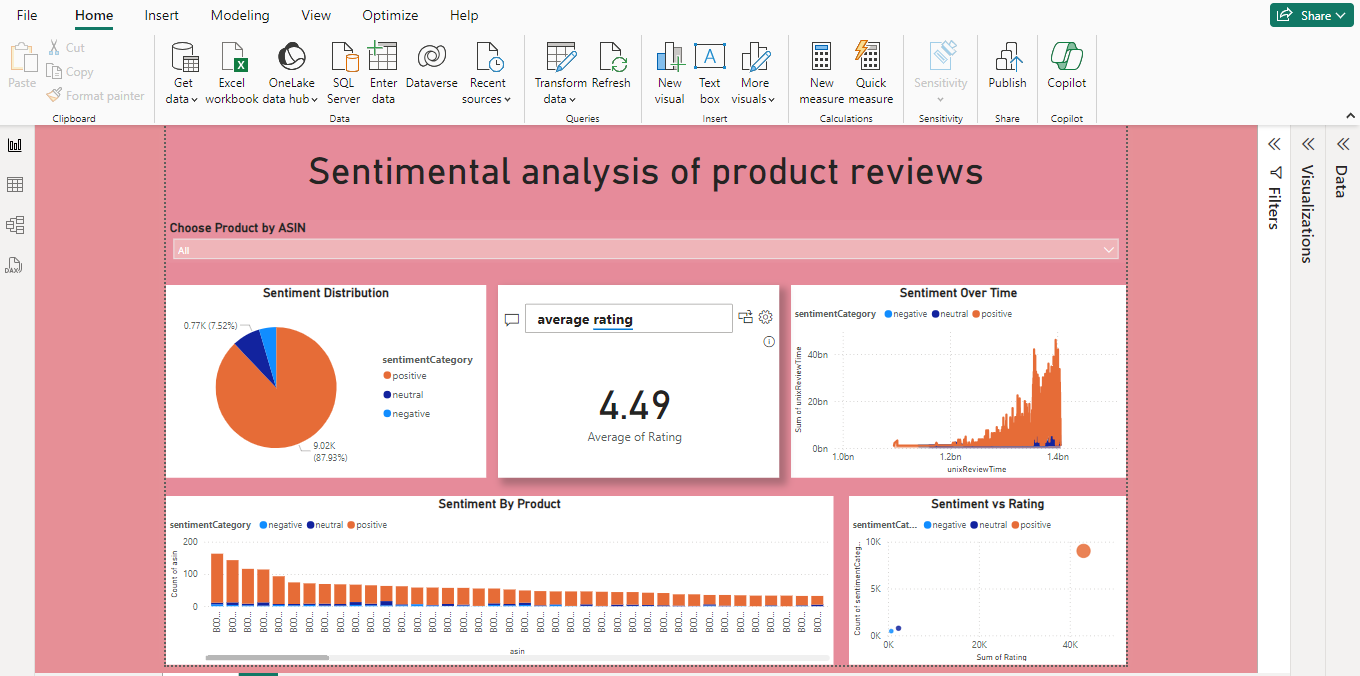

Layout of this report page (visuals, bound fields, positions):
{"tool":"powerbi","page":{"name":"Page 1","canvas":[1280,720],"ordinal":0},"visuals":[{"type":"pieChart","title":"Sentiment Distribution ","fields":{"Category":["Musical_instruments_reviews.sentimentCategory "],"Y":["CountNonNull(Musical_instruments_reviews.reviewerID)"]},"box":[0,213.3,426.7,256.7],"z":0},{"type":"columnChart","title":"Sentiment By Product ","fields":{"Category":["Musical_instruments_reviews.asin"],"Y":["CountNonNull(Musical_instruments_reviews.asin)"],"Series":["Musical_instruments_reviews.sentimentCategory "]},"box":[0,495,890,225],"z":1000},{"type":"lineChart","title":"Sentiment Over Time","fields":{"Category":["Musical_instruments_reviews.unixReviewTime"],"Y":["Sum(Musical_instruments_reviews.unixReviewTime)"],"Series":["Musical_instruments_reviews.sentimentCategory "]},"box":[833.3,213.3,446.7,256.7],"z":2000},{"type":"scatterChart","title":"Sentiment vs Rating ","fields":{"X":["Sum(Musical_instruments_reviews.Rating)"],"Series":["Musical_instruments_reviews.sentimentCategory "],"Y":["CountNonNull(Musical_instruments_reviews.sentimentCategory )"],"Size":["CountNonNull(Musical_instruments_reviews.helpful)"]},"box":[910,495,370,225],"z":3000},{"type":"slicer","title":"Choose Product by ASIN","fields":{"Values":["Musical_instruments_reviews.asin"]},"box":[0,126.7,1280,56.7],"z":4000},{"type":"qnaVisual","box":[442,213.3,375,256.7],"z":5000},{"type":"textbox","box":[108.3,26.7,1063.3,68.3],"z":6000}]}

Visuals, with their boxes on the page's 1280x720 design canvas (x1, y1, x2, y2). These are canvas units, not pixel positions in the 1360x676 screenshot, which may show the page scaled, cropped or inside an application window:
"Sentiment Distribution " pieChart: (left=0, top=213, right=427, bottom=470)
"Sentiment By Product " columnChart: (left=0, top=495, right=890, bottom=720)
"Sentiment Over Time" lineChart: (left=833, top=213, right=1280, bottom=470)
"Sentiment vs Rating " scatterChart: (left=910, top=495, right=1280, bottom=720)
"Choose Product by ASIN" slicer: (left=0, top=127, right=1280, bottom=183)
qnaVisual: (left=442, top=213, right=817, bottom=470)
textbox: (left=108, top=27, right=1172, bottom=95)
